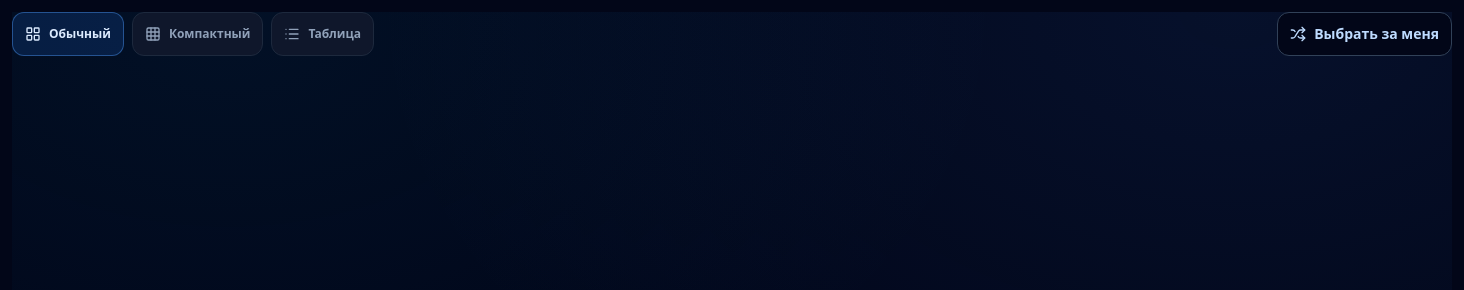
Test: localized cards and non-mutating Library tools › hides saved views for a guest and localizes an empty Planning pool without writes
Click the button "Выбрать за меня": coordinates (1365, 34) [1277,12,1452,56]
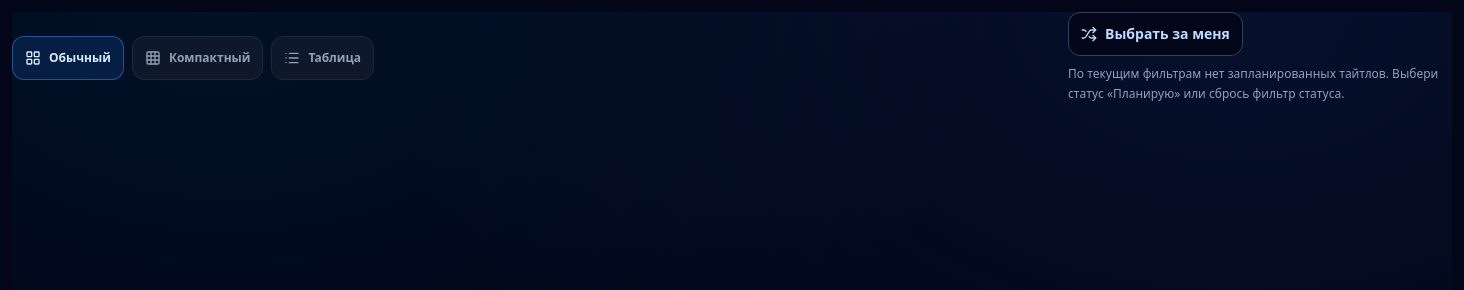
Expected: the message shows "нет запланированных тайтлов", [1068,65,1438,102]
